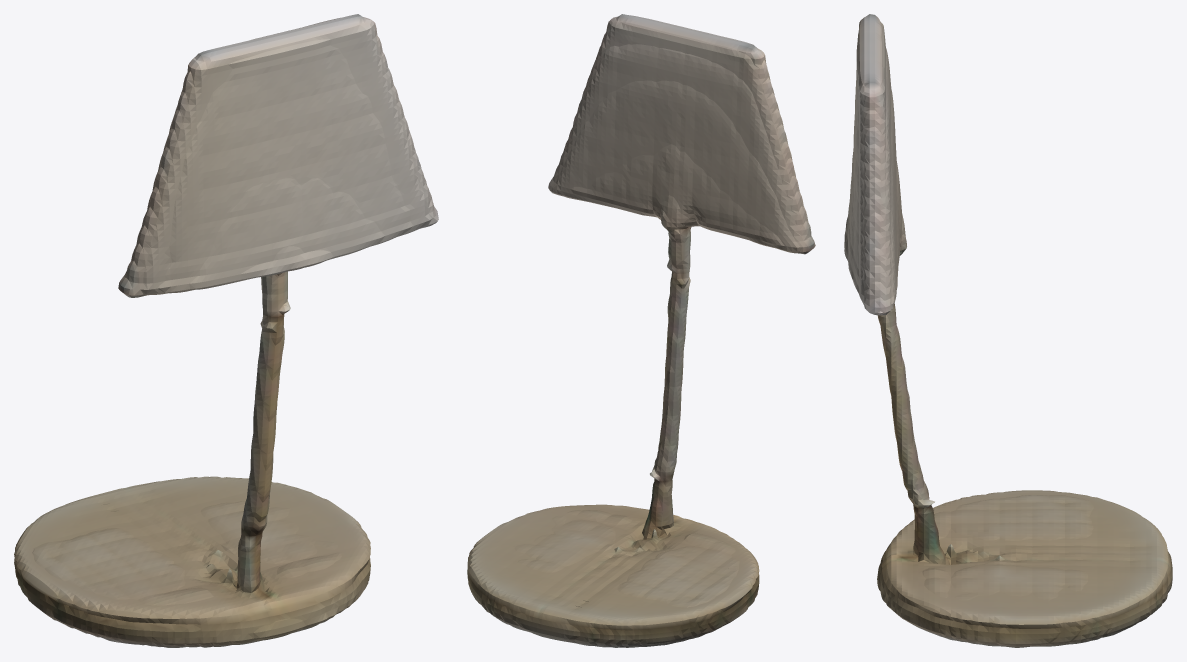
3 views of the same model, side by side, from view 1: azimuth 30°, elevation 25°; view 2: azimuth 150°, elevation 25°; view 3: azimuth 270°, elevation 25° (orthographic). The views are drawn at different scales.
Visible parts, largest first — view 1: mesh.obj; view 2: mesh.obj; view 3: mesh.obj.
Boxes of the visible parts, x1,y1,x2,y2 form: mesh.obj: (14,14,438,647); mesh.obj: (467,14,815,647); mesh.obj: (844,14,1172,647).
Bounding box in the file's own units: 0.5395 × 1 × 0.5514.
